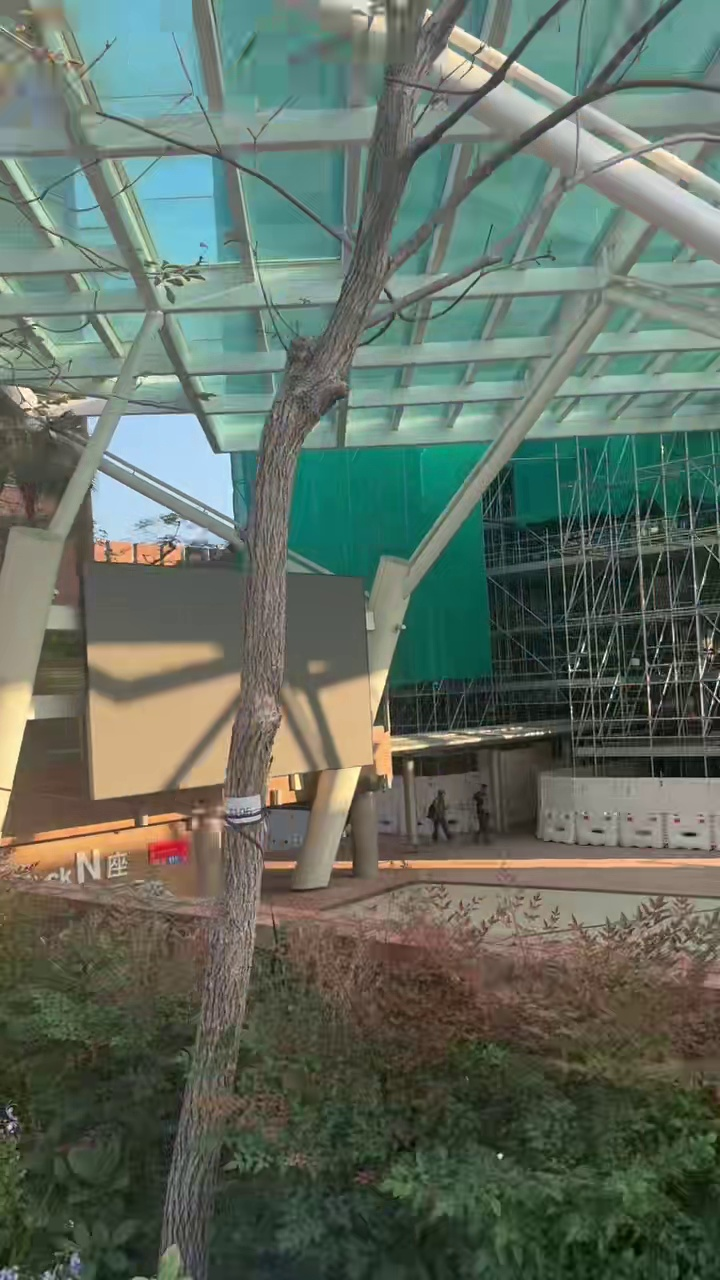Tabebuia chrysantha: (162, 0, 679, 1279)
